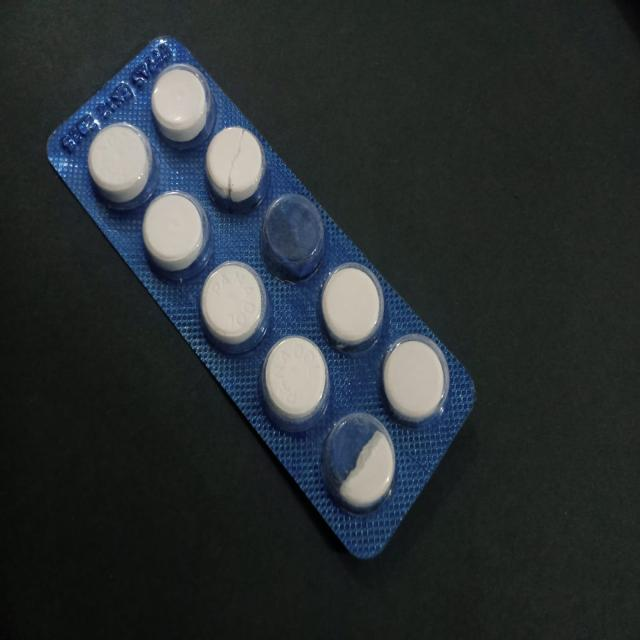defect: (321, 412, 398, 512), (262, 191, 326, 281), (204, 122, 265, 205)
